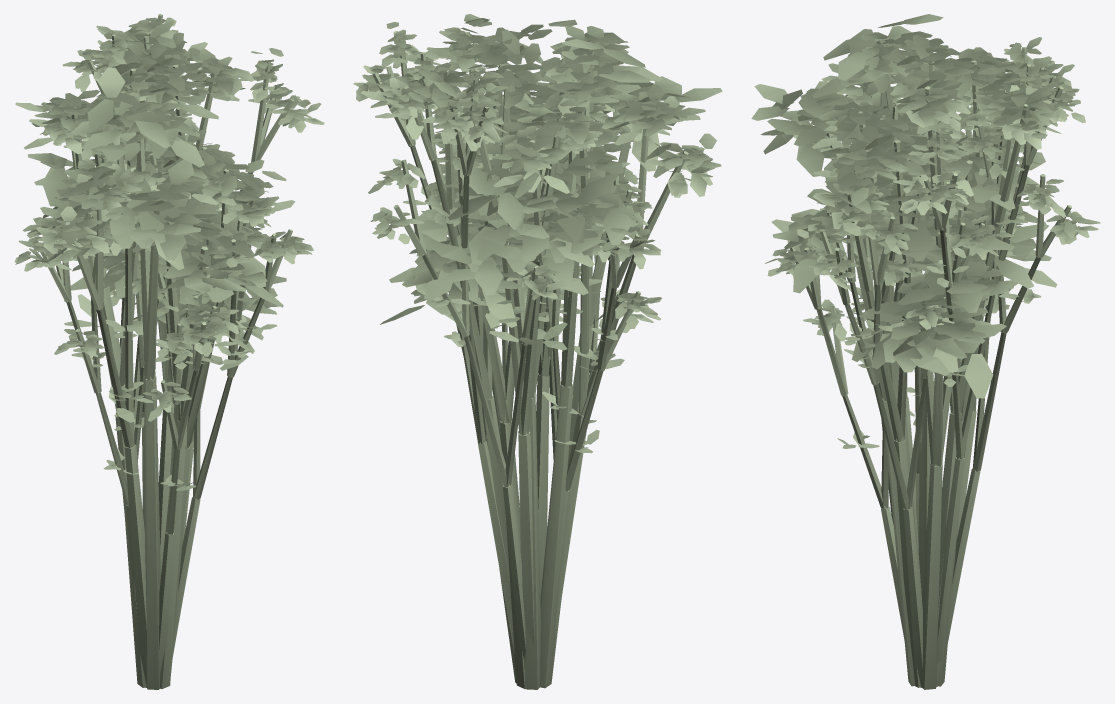
File: tree_birch_water.glb
3 views of the same model, side by side, from view 1: azimuth 30°, elevation 25°; view 2: azimuth 150°, elevation 25°; view 3: azimuth 270°, elevation 25° (orthographic). The views are drawn at different scales.
Visible parts, largest first — view 1: tier1_foliage, tier0_foliage, tier2_foliage, tier2_bark, tier0_bark, tier1_bark; view 2: tier0_foliage, tier1_foliage, tier2_bark, tier0_bark, tier2_foliage, tier1_bark; view 3: tier0_foliage, tier1_foliage, tier2_bark, tier2_foliage, tier1_bark, tier0_bark.
Part boxes in pixels (x1,y1,x2,y2): tier1_foliage: (15, 21, 295, 422); tier0_foliage: (27, 67, 286, 353); tier2_foliage: (14, 17, 324, 490); tier2_bark: (40, 14, 294, 671); tier0_bark: (103, 132, 209, 689); tier1_bark: (65, 36, 259, 687); tier0_foliage: (380, 19, 722, 327); tier1_foliage: (361, 14, 721, 371); tier2_bark: (372, 39, 640, 659); tier0_bark: (449, 49, 630, 689); tier2_foliage: (353, 22, 661, 453); tier1_bark: (407, 32, 688, 670); tier0_foliage: (751, 14, 1058, 398); tier1_foliage: (812, 31, 1068, 367); tier2_bark: (789, 47, 1071, 687); tier2_foliage: (765, 37, 1100, 448); tier1_bark: (847, 56, 1029, 687); tier0_bark: (826, 43, 987, 689).
Size of the model in its own units: 0.5201 by 1 by 0.4906.
